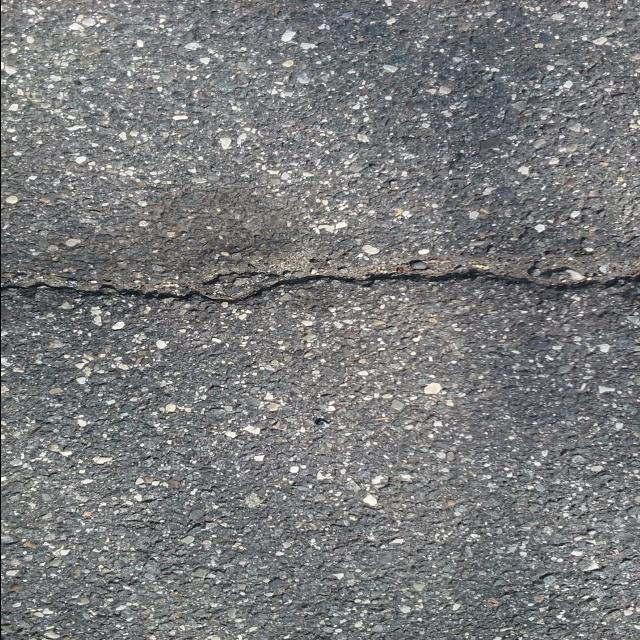Crack: (0, 271, 640, 305)
